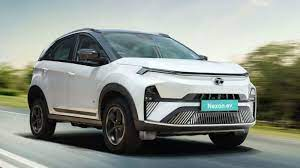Tata Nexon: (25, 24, 259, 151)
